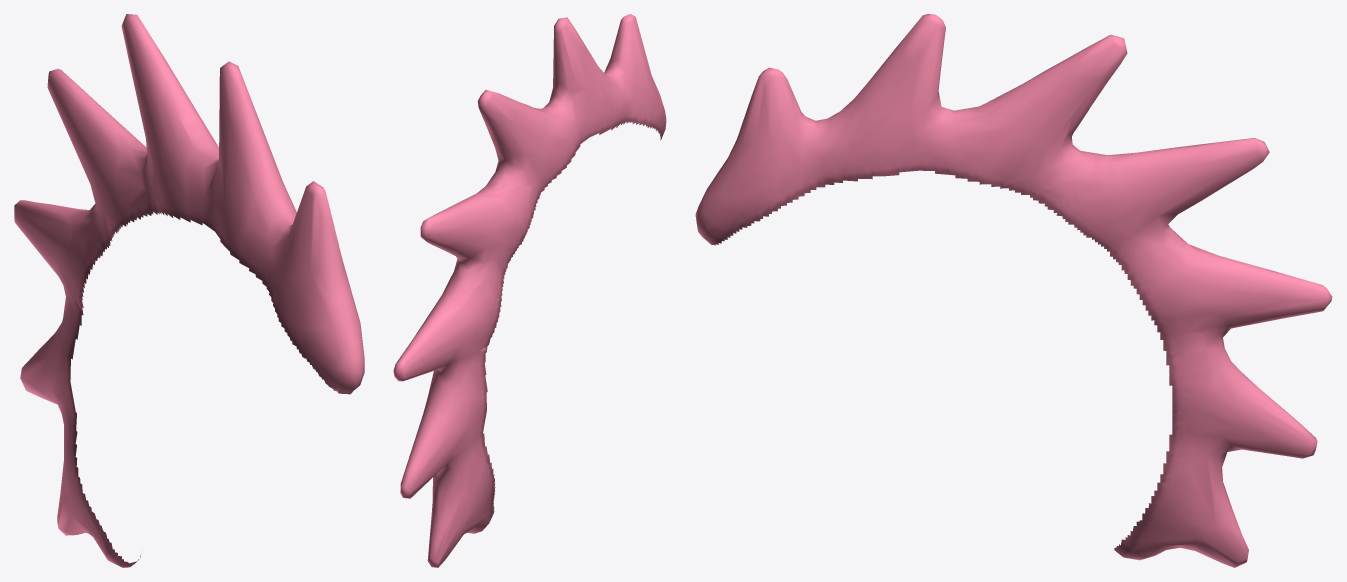
Rendered from hair_mohawk.glb.
The picture shows the model from 3 angles, left to right: view 1: azimuth 30°, elevation 25°; view 2: azimuth 150°, elevation 25°; view 3: azimuth 270°, elevation 25°; orthographic projection. The views are drawn at different scales.
Visible parts, largest first — view 1: hair_mohawk; view 2: hair_mohawk; view 3: hair_mohawk.
Part boxes in pixels (bbox=[...]): hair_mohawk: bbox=[14, 14, 364, 567]; hair_mohawk: bbox=[393, 14, 666, 567]; hair_mohawk: bbox=[695, 14, 1332, 567].
Size of the model in its own units: 0.0697 by 0.6169 by 0.6448.
1 material, 1 textured.
